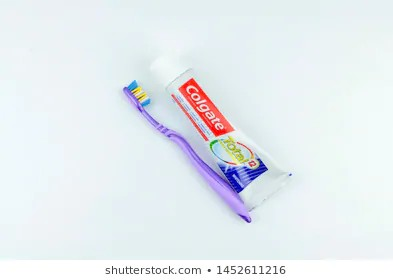colgate-total-150gm: (149, 24, 307, 209)
toothbrush: (117, 78, 174, 152)
